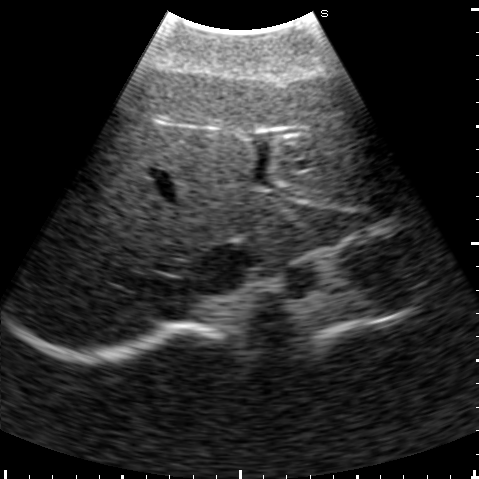IVC: (189, 243, 256, 293)
S1: (239, 198, 323, 265)
S2: (272, 182, 417, 246)
S3: (257, 71, 407, 207)
